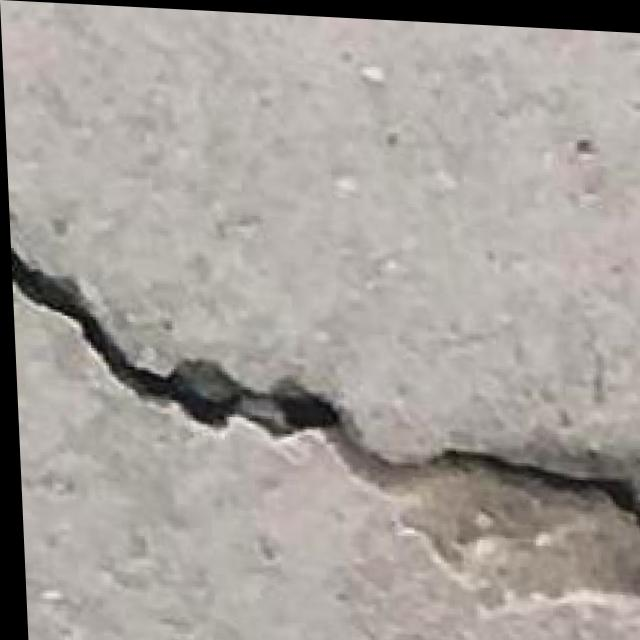Crack: (8, 237, 640, 598)
